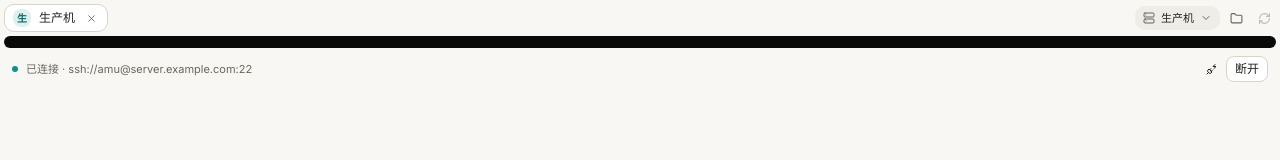
Scenario: SshTerminalPanel 终端态 › does not flag manual disconnect as a reconnect-able drop
Click the button "断开": x=1247, y=69 [1226,56,1268,82]
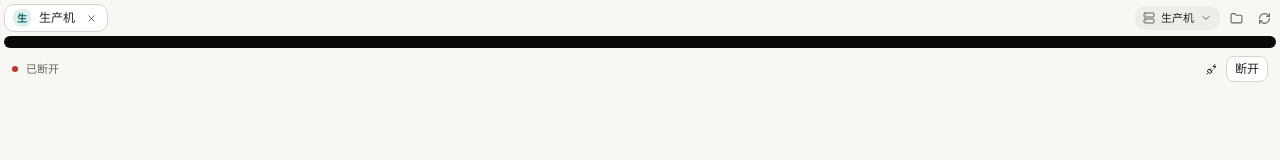
expect the button named "重连" is enabled: met, box [1252,6,1276,30]
